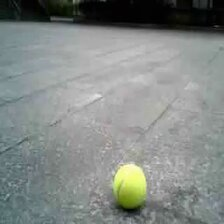tennis: (115, 165, 146, 206)
